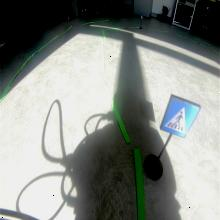crosswalk: (160, 94, 202, 139)
